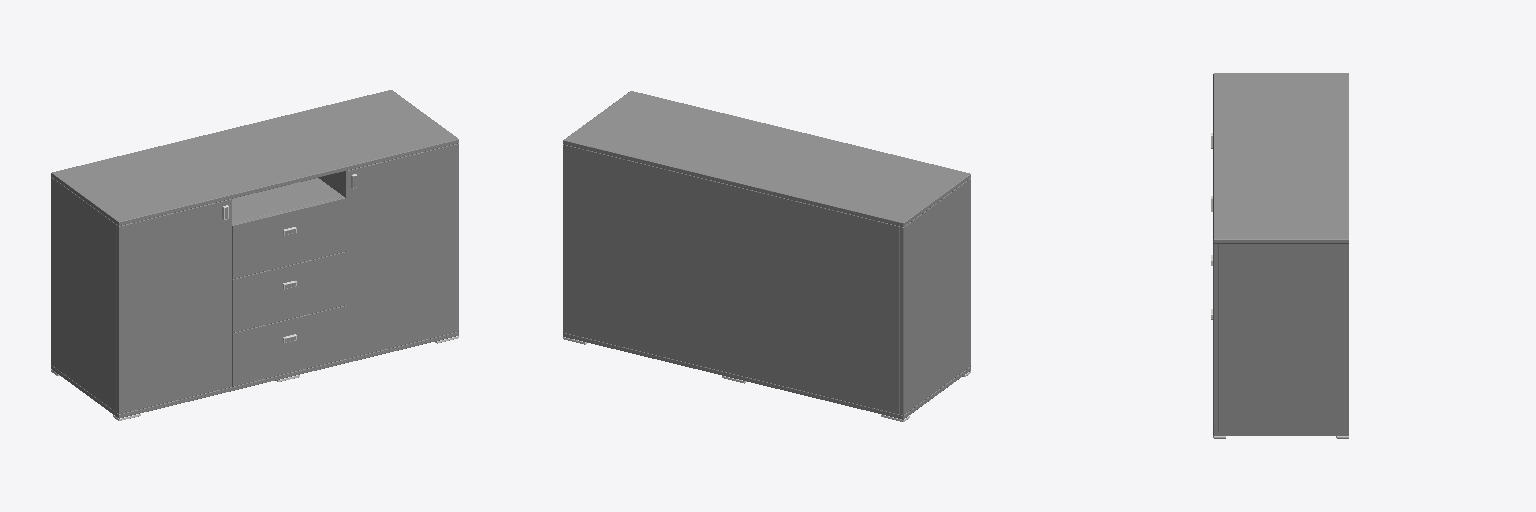
3 views of the same model, side by side, from view 1: azimuth 30°, elevation 25°; view 2: azimuth 150°, elevation 25°; view 3: azimuth 270°, elevation 25° (orthographic).
Size of the model in its own units: 1.36 by 0.76 by 0.48.
Materials: 4 (1 with a texture image).